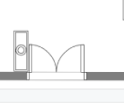double door: (24, 37, 95, 87)
